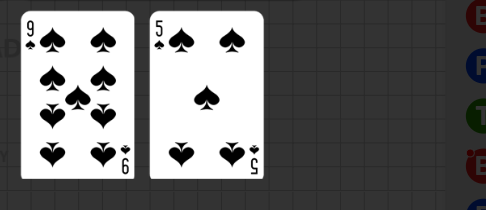5S: (247, 143, 260, 176)
9S: (24, 19, 37, 53)
